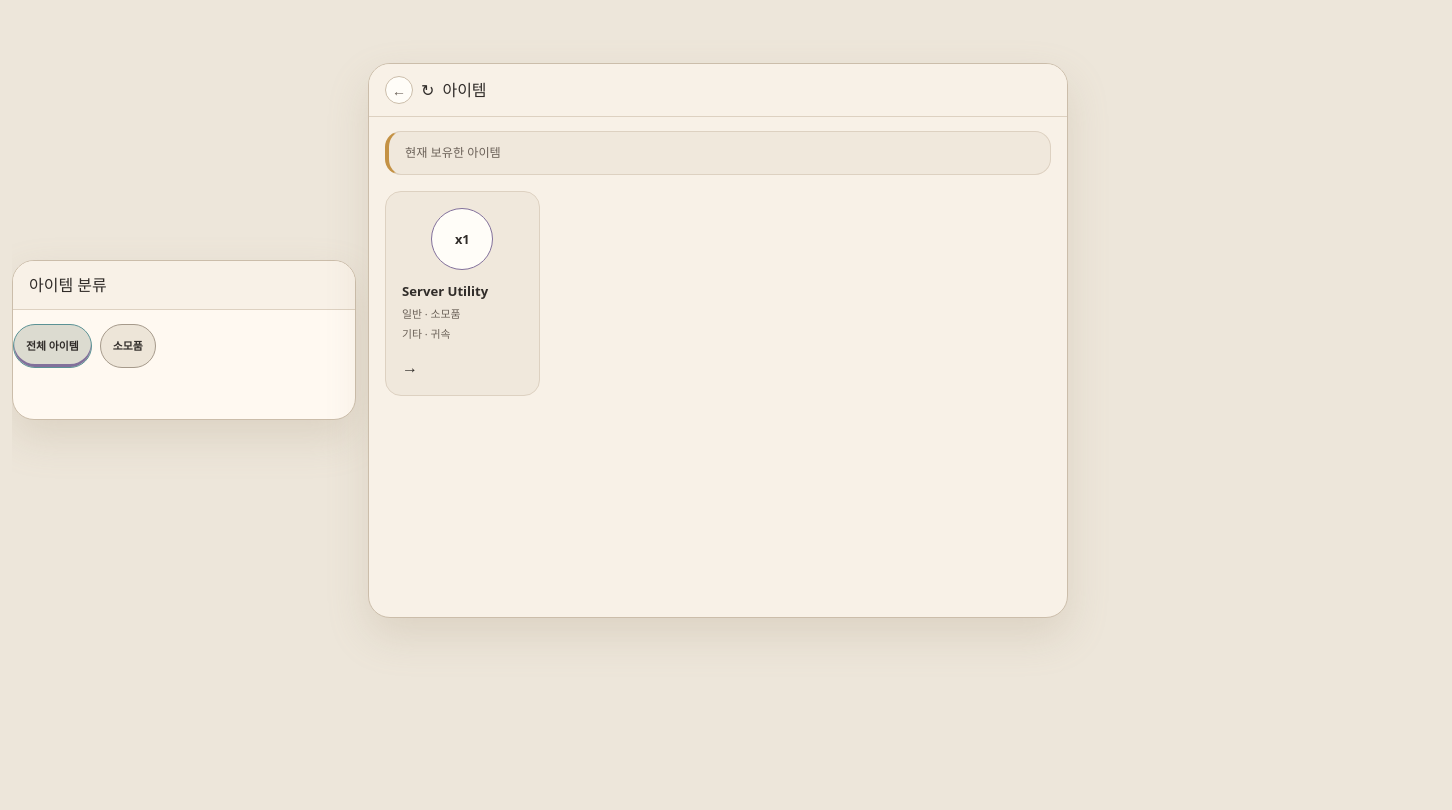
Test: Inventory Items와 Inbox surface를 사용할 때 › Items를 조회하고 itemInstanceId로 선택하면 › primitive와 nested instanceAttrs를 안전한 key/value로 표시한다
This screenshot has width=1452, height=810.
Click the button "x1 Server Utility 일반 · 소모품 기타 · 귀속 →".
click(462, 293)  # box [385, 191, 540, 395]
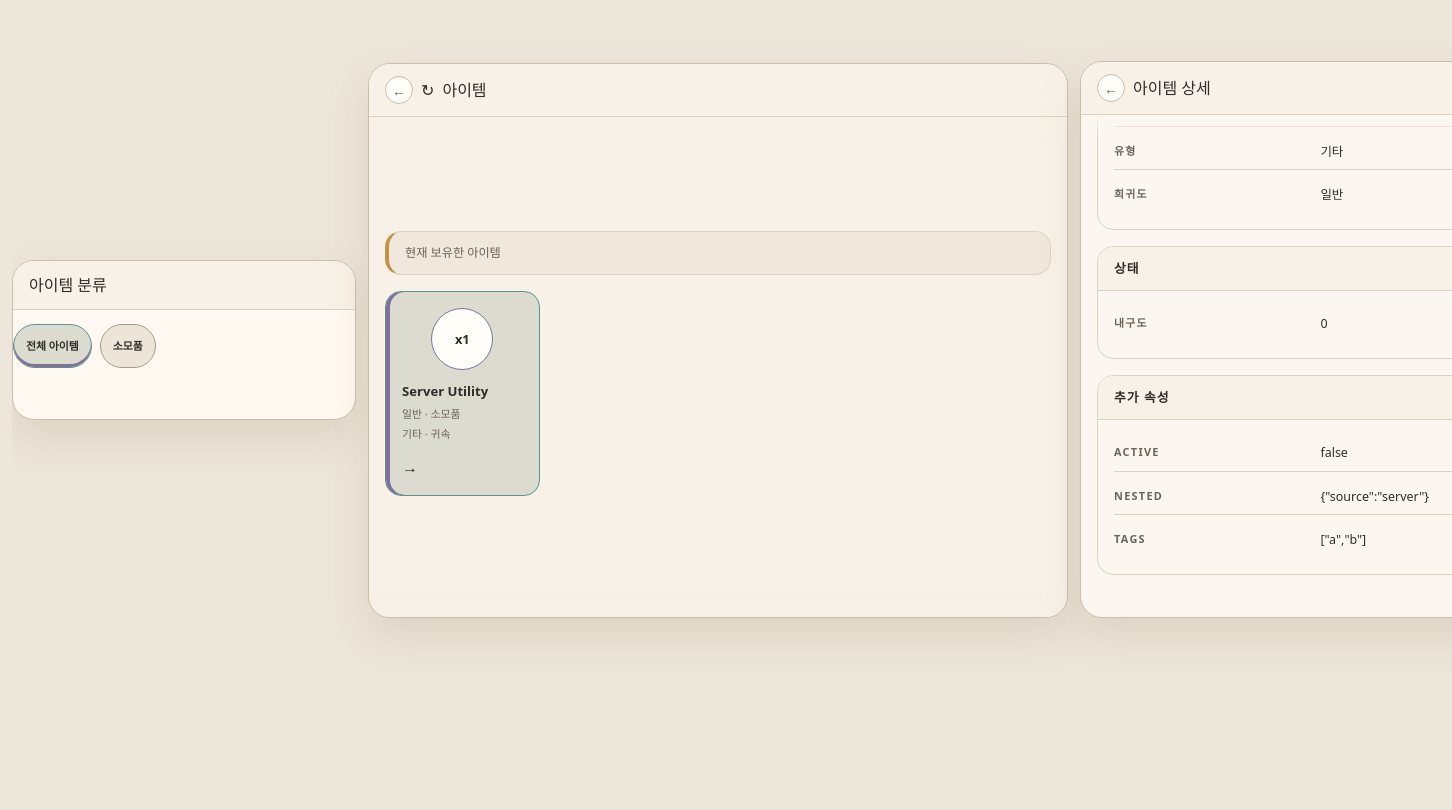
Now the text "false" is shown, box [1320, 444, 1348, 461]
Now the text "{\"source\":\"server\"}" is shown, box [1320, 488, 1429, 505]
Now the text "[\"a\",\"b\"]" is shown, box [1320, 532, 1366, 549]
